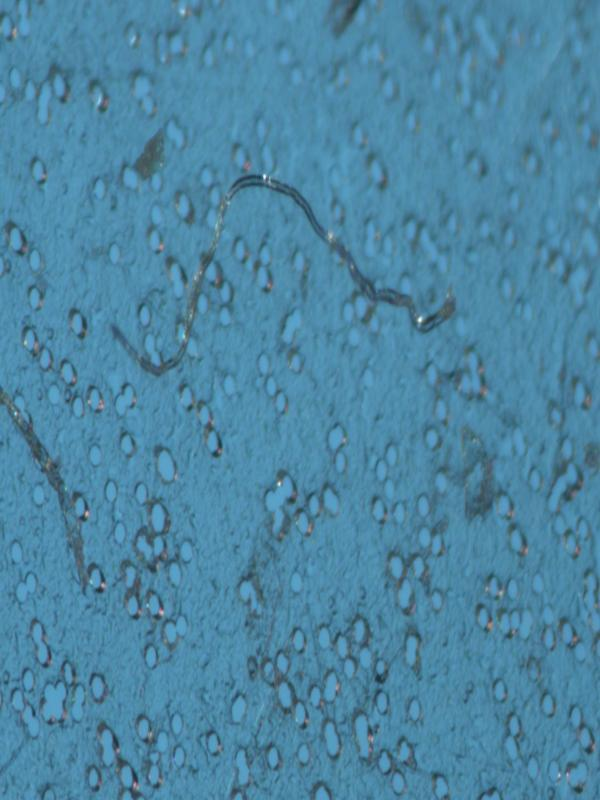microplastic: (1, 2, 598, 798), (109, 169, 457, 380)
